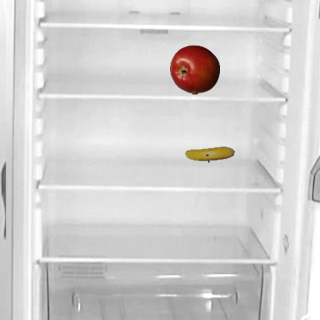Apple Braeburn: (169, 44, 219, 94)
Banana: (184, 129, 234, 179)
